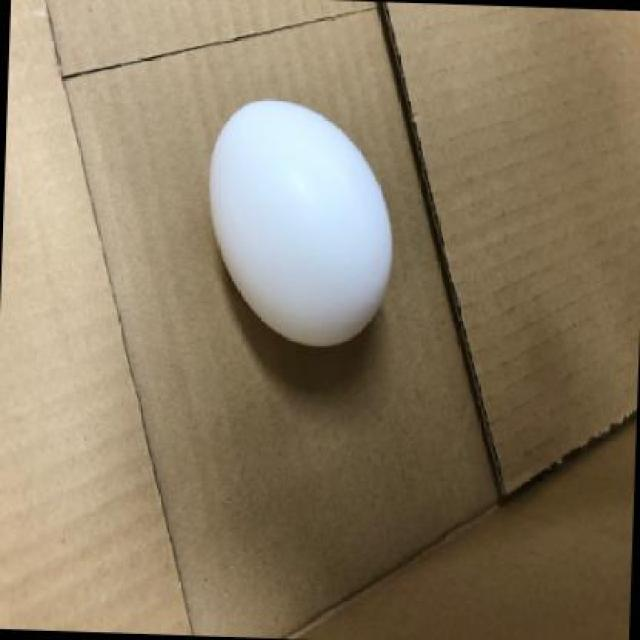egg: (198, 93, 404, 353)
